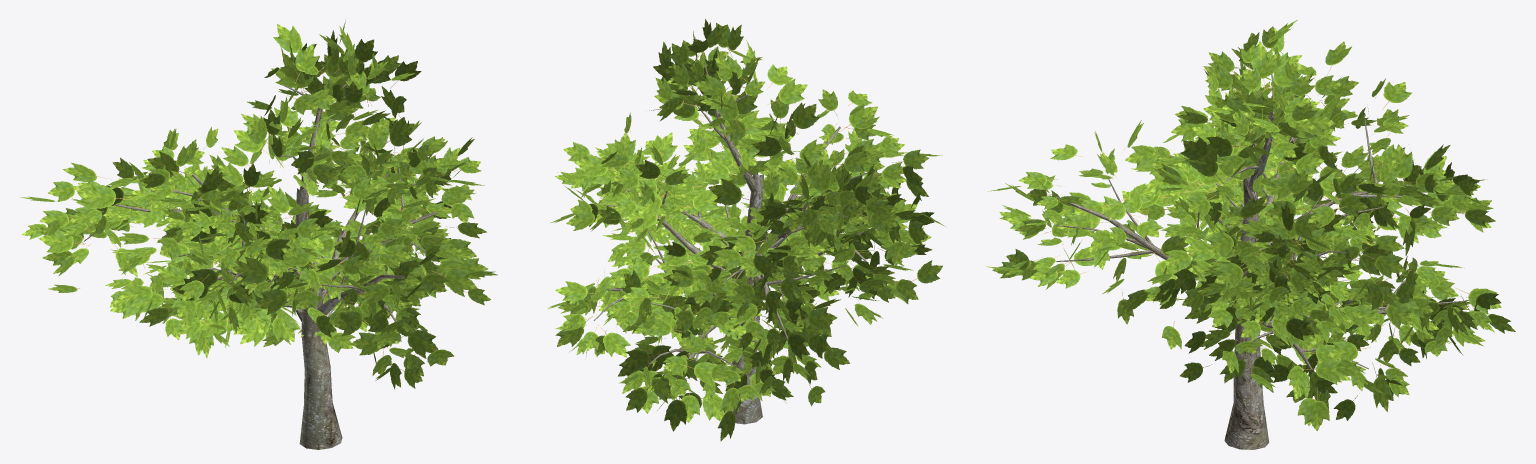
File: tree_maple_green.glb
3 views of the same model, side by side, from view 1: azimuth 30°, elevation 25°; view 2: azimuth 150°, elevation 25°; view 3: azimuth 270°, elevation 25° (orthographic). The views are drawn at different scales.
Parts seen in each view (by area): view 1: tree; view 2: tree; view 3: tree.
Part boxes in pixels (left/top/right/bottom): tree: left=20, top=20, right=497, bottom=449; tree: left=548, top=19, right=945, bottom=441; tree: left=986, top=20, right=1515, bottom=449.
Bounding box in the file's own units: 5.89 × 5.56 × 6.53.
Materials: 2 (2 with a texture image).
